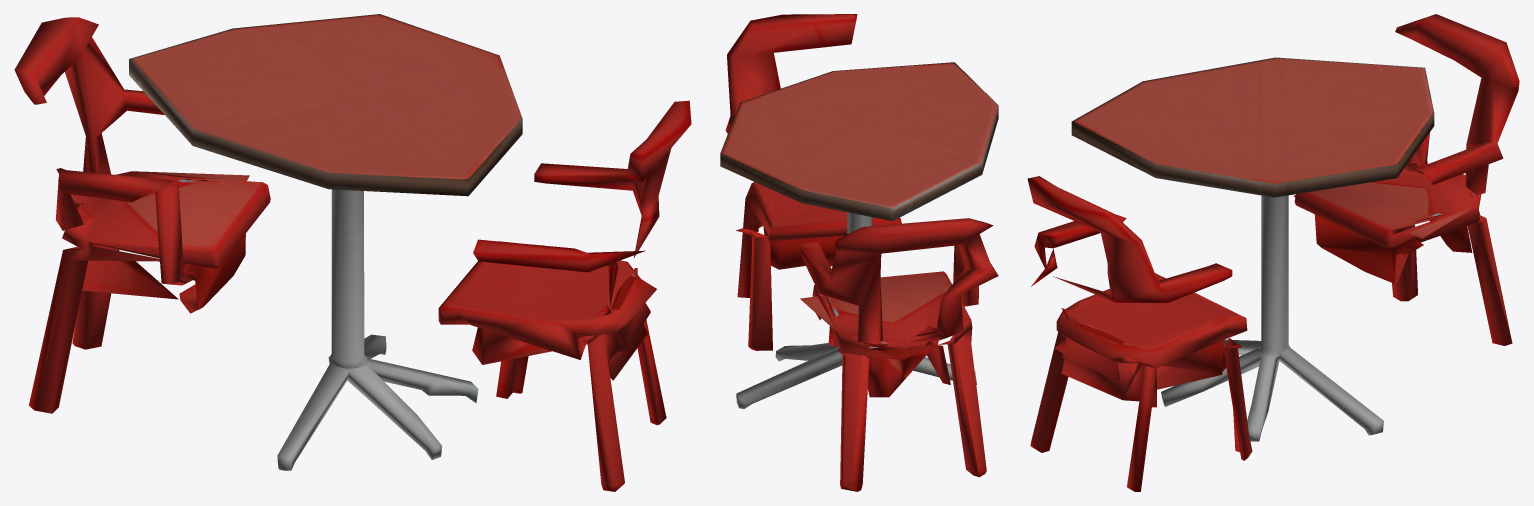
File: mesa.glb
3 renders of one model, left to right at view 1: azimuth 30°, elevation 25°; view 2: azimuth 150°, elevation 25°; view 3: azimuth 270°, elevation 25°, orthographic. The views are drawn at different scales.
Visible parts, largest first — view 1: tripo_node_d1cab448-9f34-44bc-83e1-468fda18ad05; view 2: tripo_node_d1cab448-9f34-44bc-83e1-468fda18ad05; view 3: tripo_node_d1cab448-9f34-44bc-83e1-468fda18ad05.
Boxes of the visible parts, box(x1,y1,x2,y2) form: tripo_node_d1cab448-9f34-44bc-83e1-468fda18ad05: box(14, 14, 691, 491); tripo_node_d1cab448-9f34-44bc-83e1-468fda18ad05: box(720, 14, 998, 491); tripo_node_d1cab448-9f34-44bc-83e1-468fda18ad05: box(1027, 14, 1519, 491).
Size of the model in its own units: 0.9354 by 0.6164 by 0.9589.
Materials: 1 (1 with a texture image).
